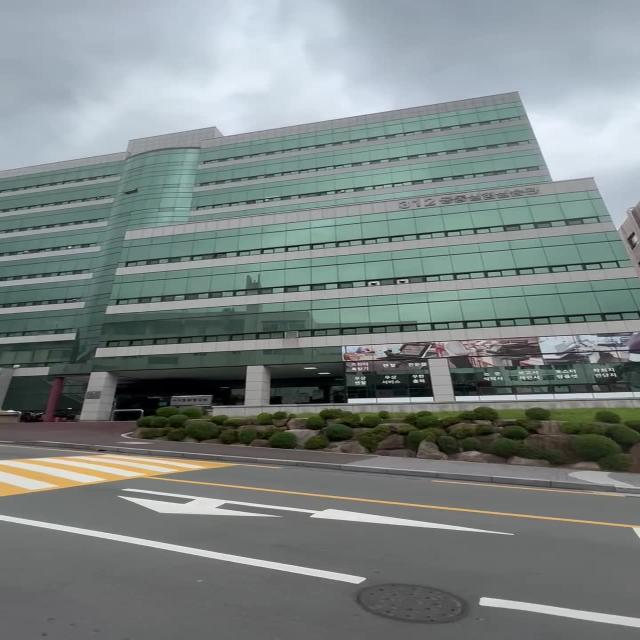building: (34, 104, 618, 341)
